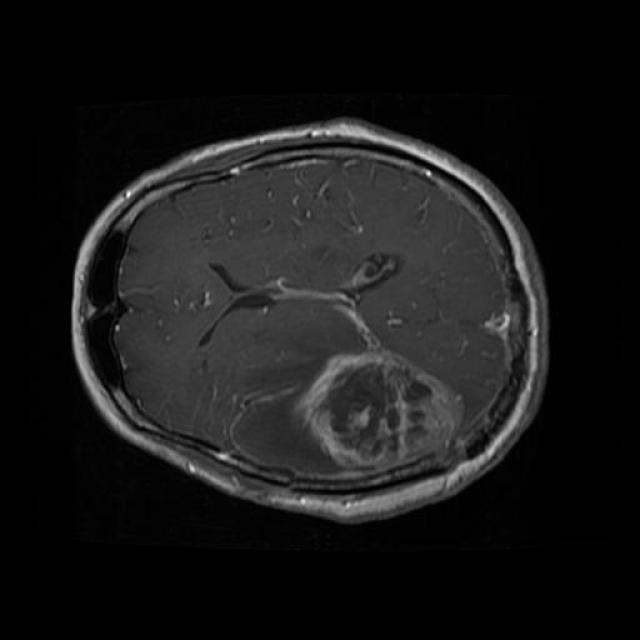Glioma: (295, 349, 463, 469)
